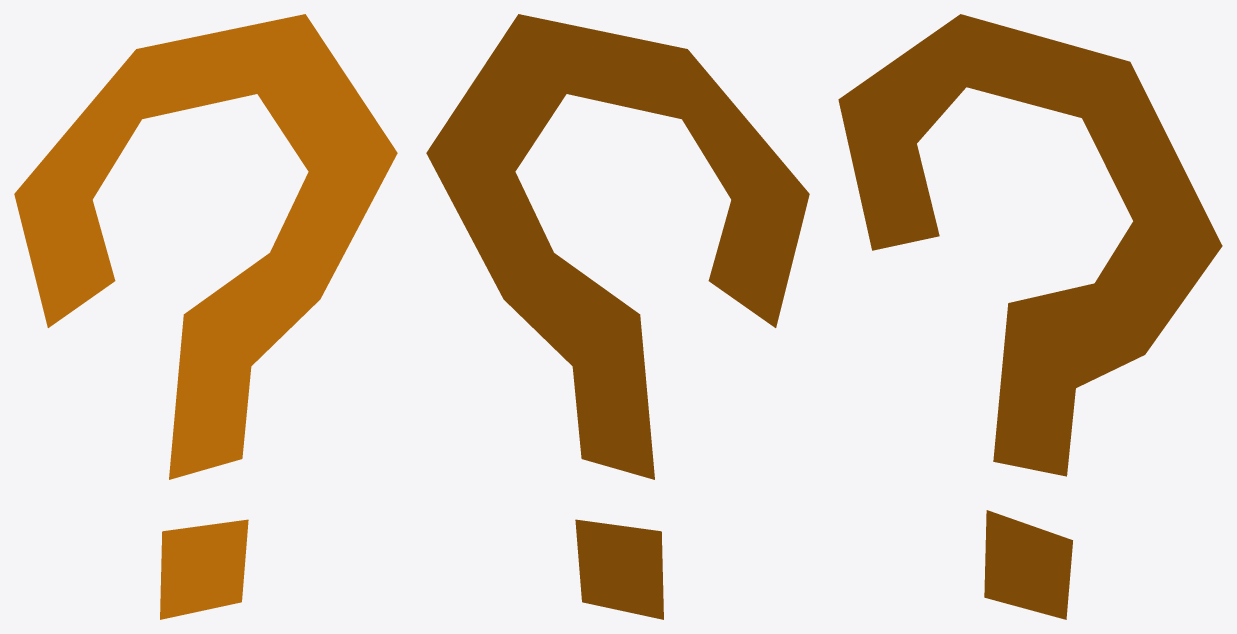
The model's file is vfx_emo_interrogative.FBX.
3 renders of one model, left to right at view 1: azimuth 30°, elevation 25°; view 2: azimuth 150°, elevation 25°; view 3: azimuth 330°, elevation 25°, orthographic.
Visible parts, largest first — view 1: vfx_emo_interrogative; view 2: vfx_emo_interrogative; view 3: vfx_emo_interrogative.
Boxes of the visible parts, bbox=[...] form: vfx_emo_interrogative: bbox=[14, 14, 397, 619]; vfx_emo_interrogative: bbox=[426, 14, 809, 619]; vfx_emo_interrogative: bbox=[838, 14, 1222, 619].
Bounding box in the file's own units: 451 × 651 × 7.96e-05.
